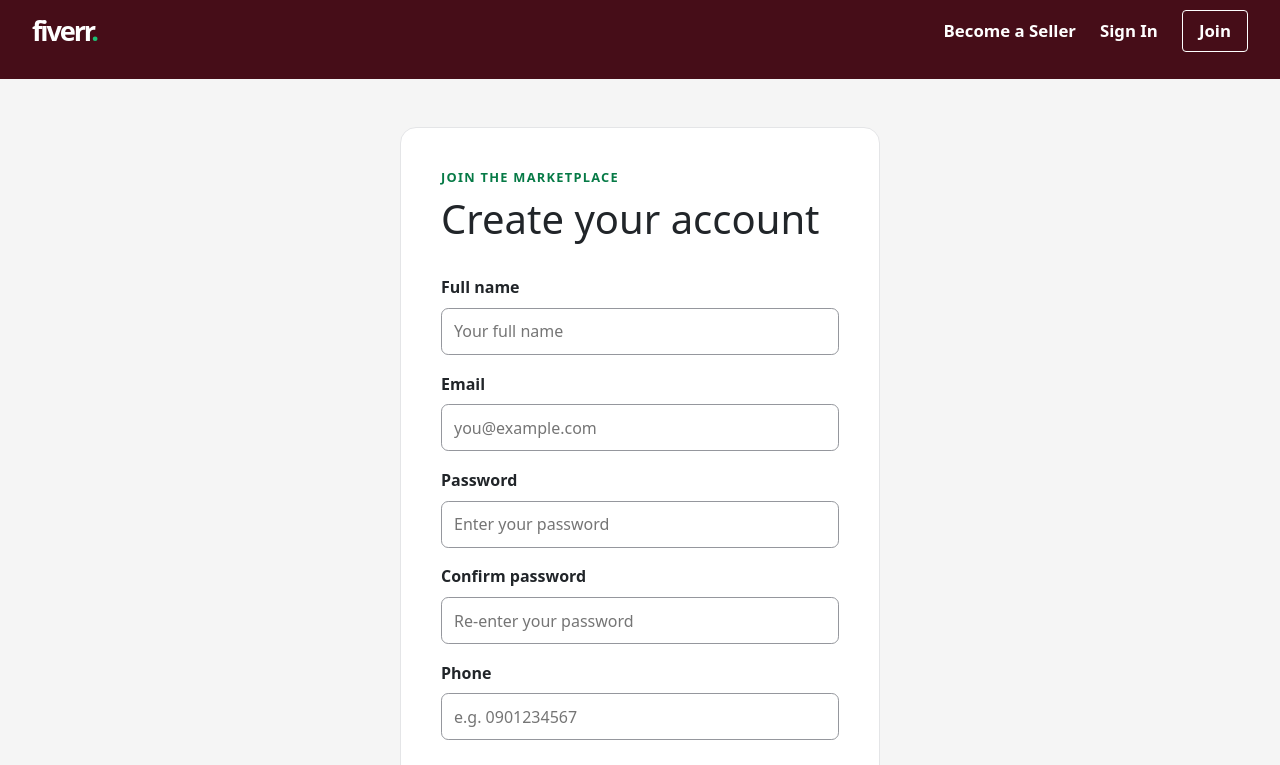
Scenario: authentication routes › registers a User and continues to Login without creating a Session
The image size is (1280, 765).
Type "  Alex Morgan  " into the field labelled "Full name" at (640, 331), box [441,308,839,355]
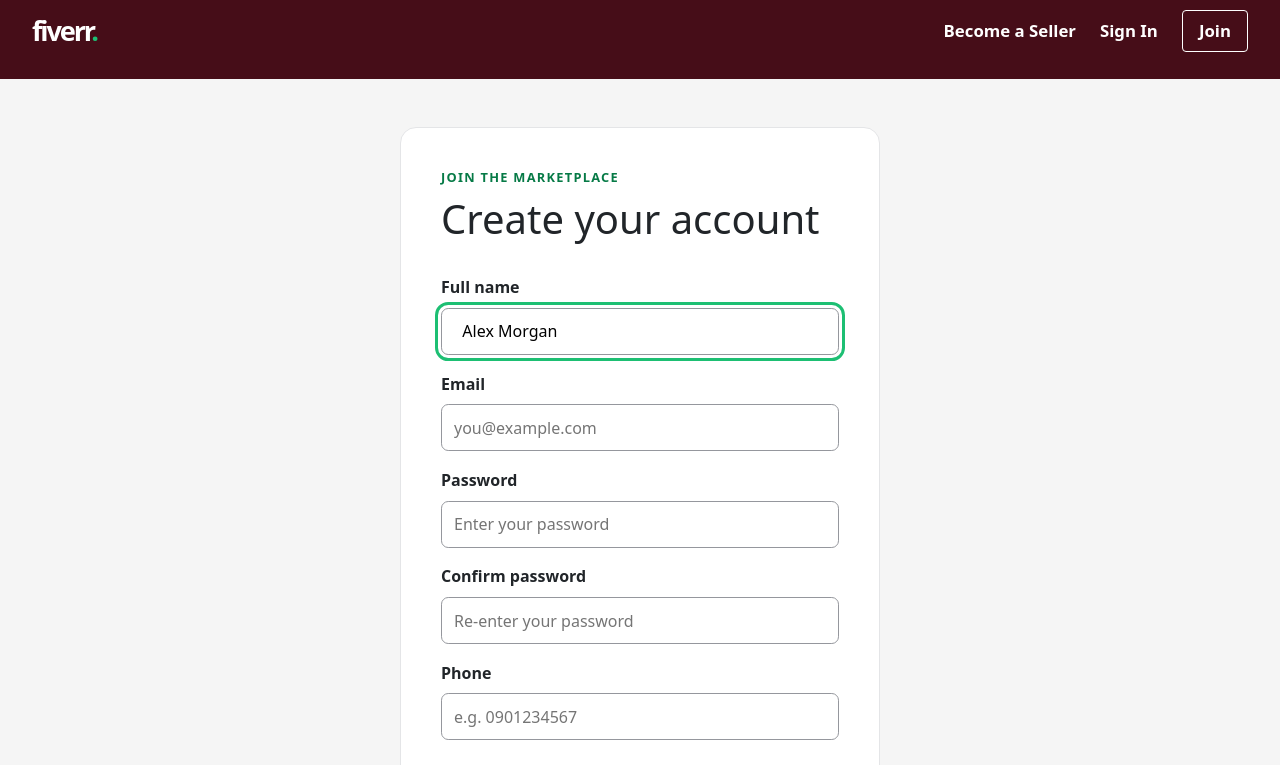
Type "ALEX@EXAMPLE.COM" into the field labelled "Email" at (640, 428), box [441,404,839,451]
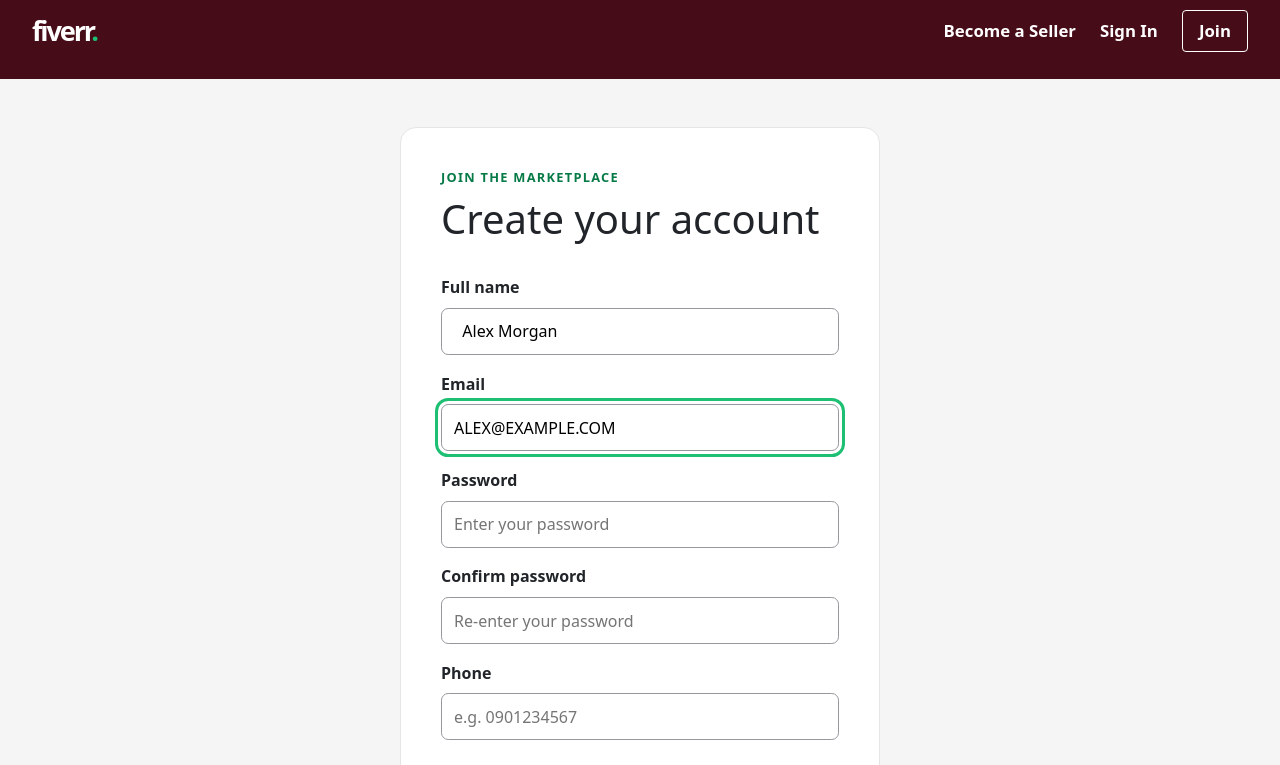
Type "secret1" into the password field labelled "Password" at (640, 524), box [441,501,839,548]
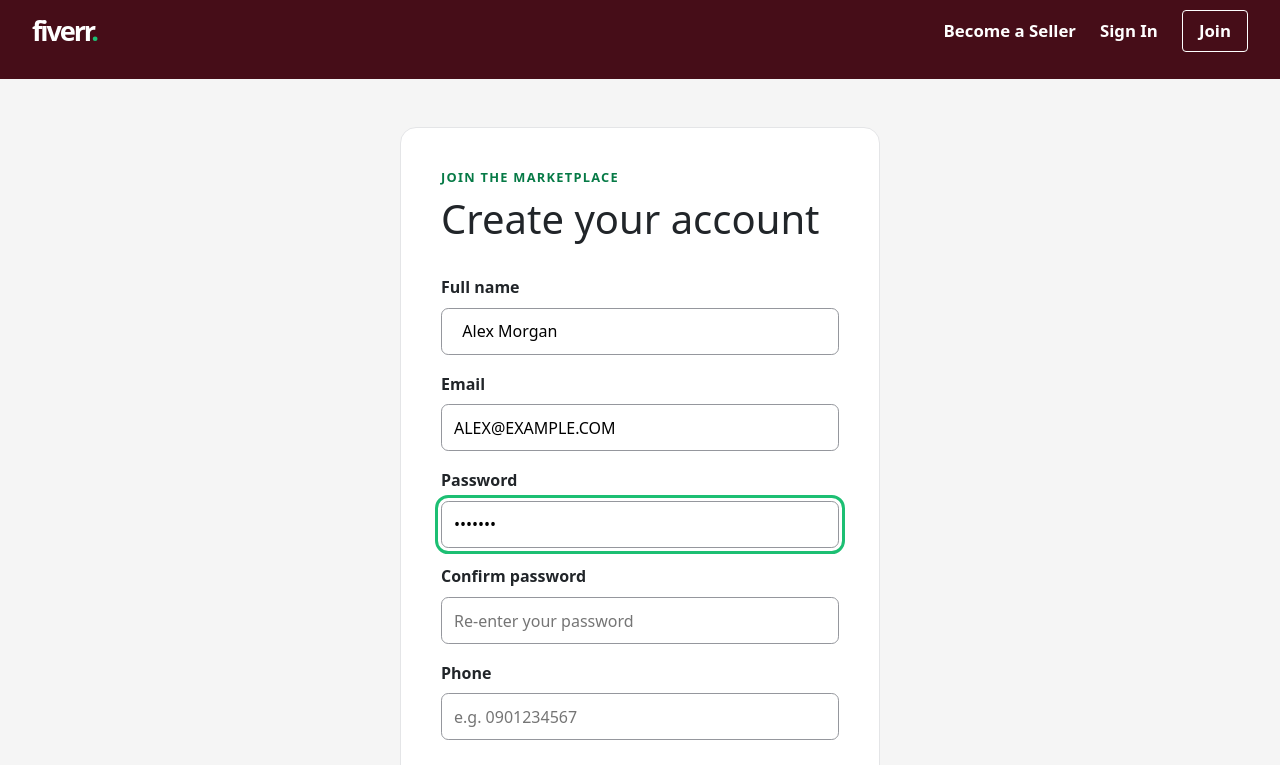
Type "secret1" into the password field labelled "Confirm password" at (640, 620), box [441,597,839,644]
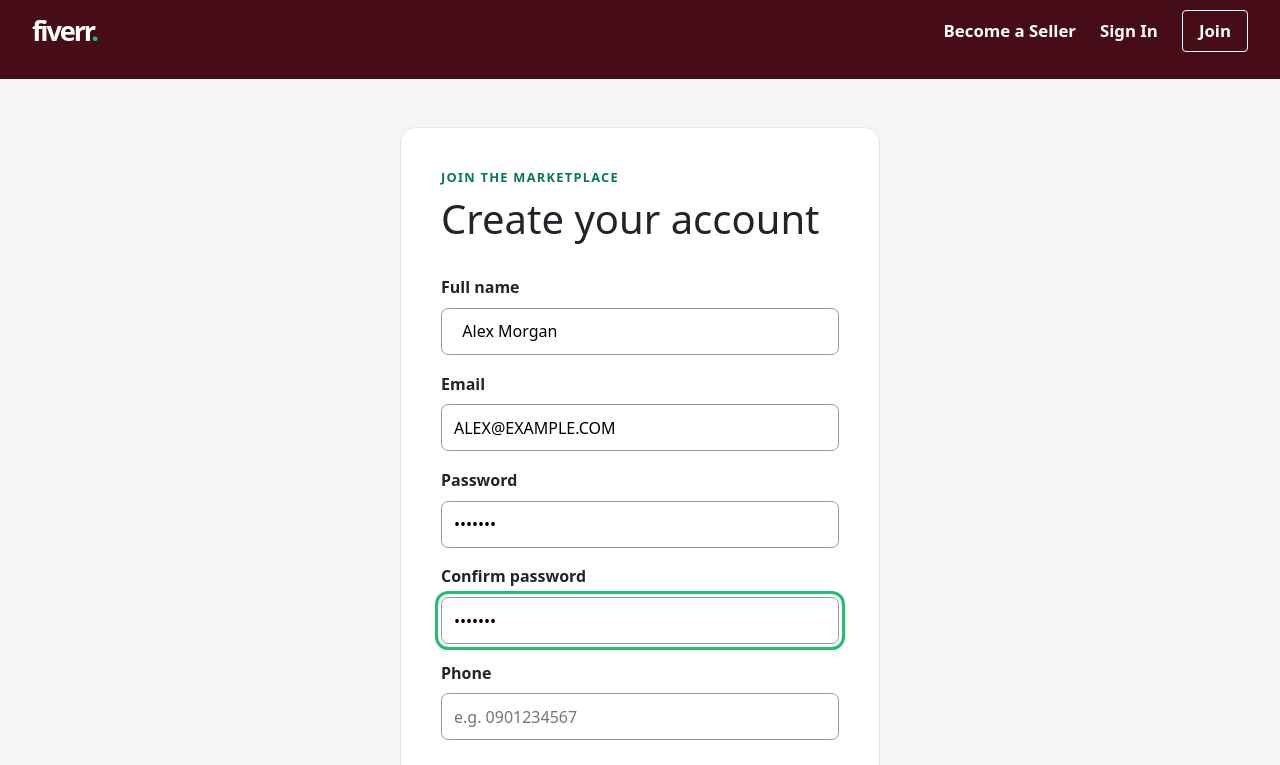
Type "+84 90-123-4567" into the field labelled "Phone" at (640, 717), box [441,694,839,740]
(page scrolled)
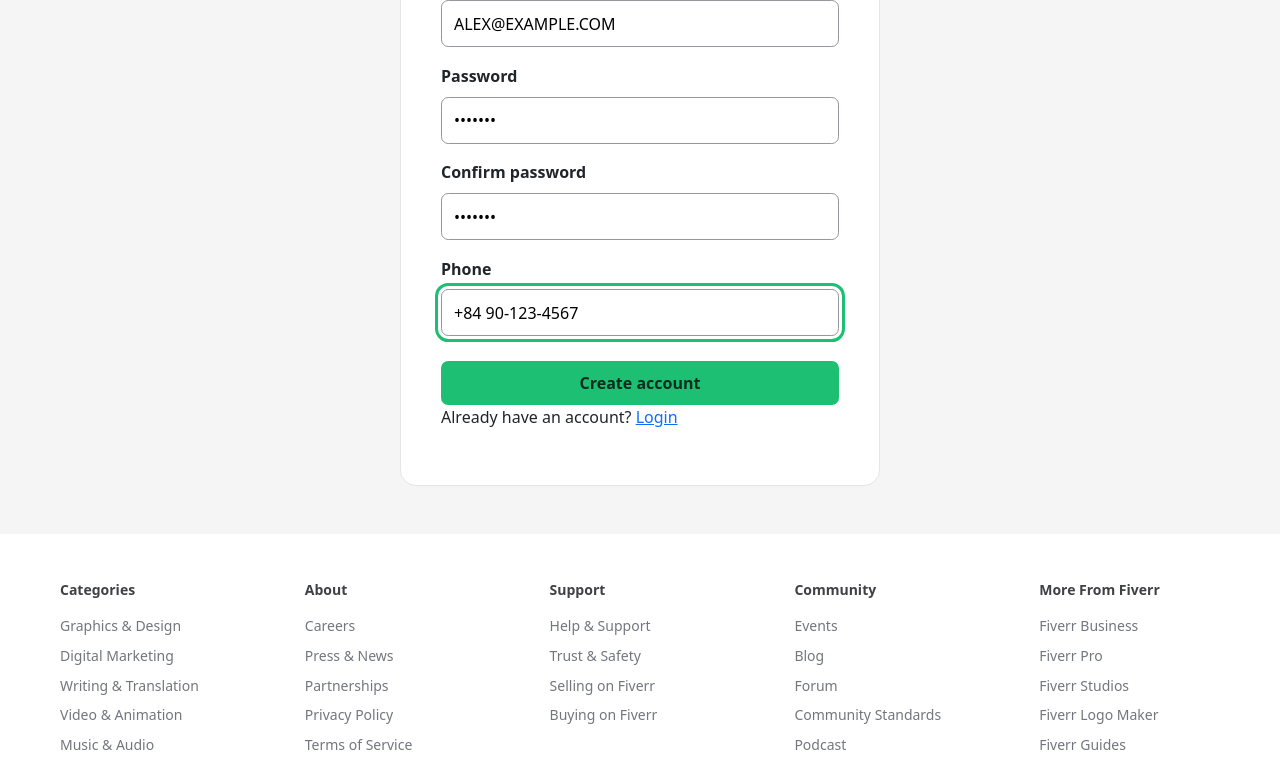
Click the button "Create account" at (640, 383), box [441,361,839,405]
(page scrolled)
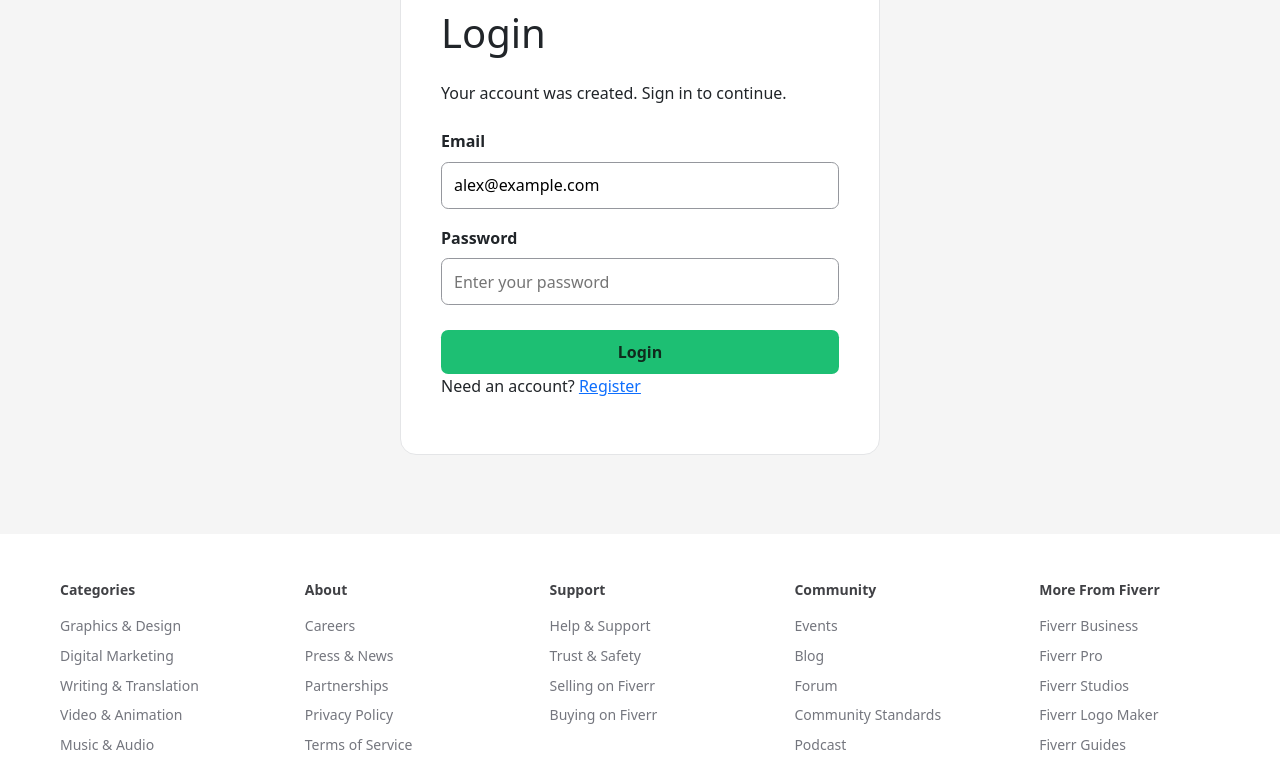
Check: the heading "Login" is shown, box [441,5,546,60]
Check: the message reads "Your account was created. Sign in to continue.", box [441,82,787,104]
Check: the field labelled "Email" holds "alex@example.com", box [441,162,839,209]
